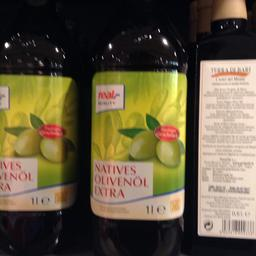oil: (84, 0, 188, 255), (0, 2, 83, 254), (188, 0, 254, 246)
